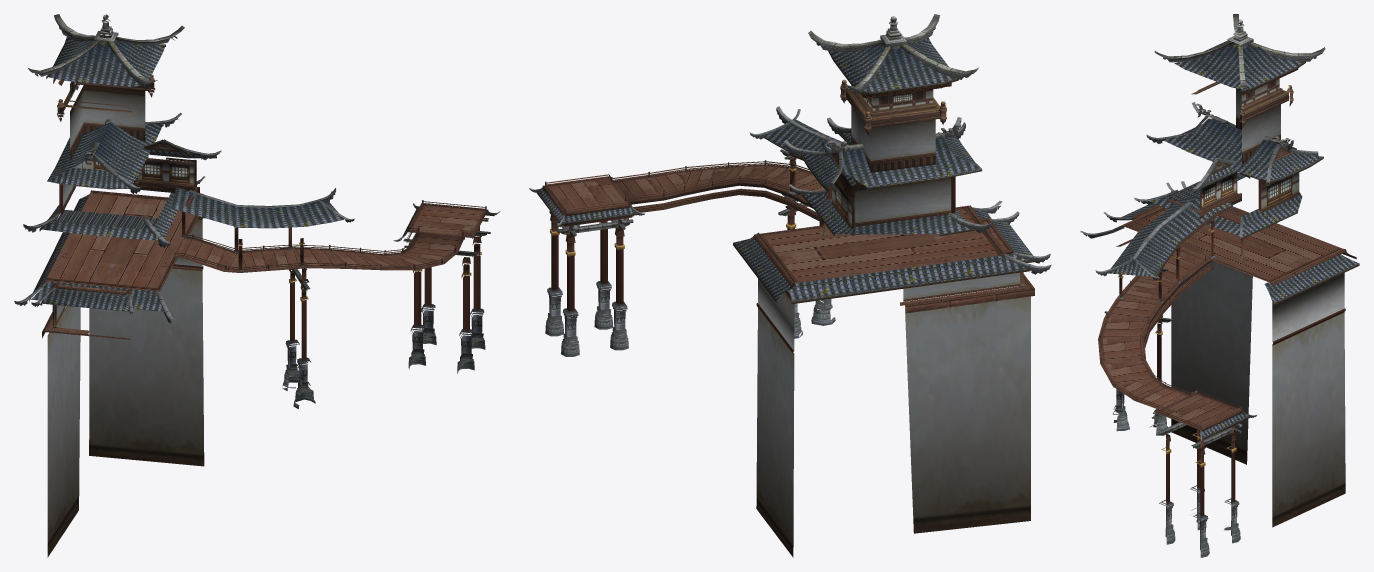
Rendered from S2_Build_XSC057_H2.FBX.
3 renders of one model, left to right at view 1: azimuth 30°, elevation 25°; view 2: azimuth 150°, elevation 25°; view 3: azimuth 270°, elevation 25°, orthographic. The views are drawn at different scales.
Visible parts, largest first — view 1: S2_Build_XSC057_H2; view 2: S2_Build_XSC057_H2; view 3: S2_Build_XSC057_H2.
Boxes of the visible parts, x1,y1,x2,y2 form: S2_Build_XSC057_H2: (14, 14, 500, 557); S2_Build_XSC057_H2: (529, 14, 1051, 557); S2_Build_XSC057_H2: (1080, 14, 1359, 557).
Bounding box in the file's own units: 11243 × 10687 × 5928.
